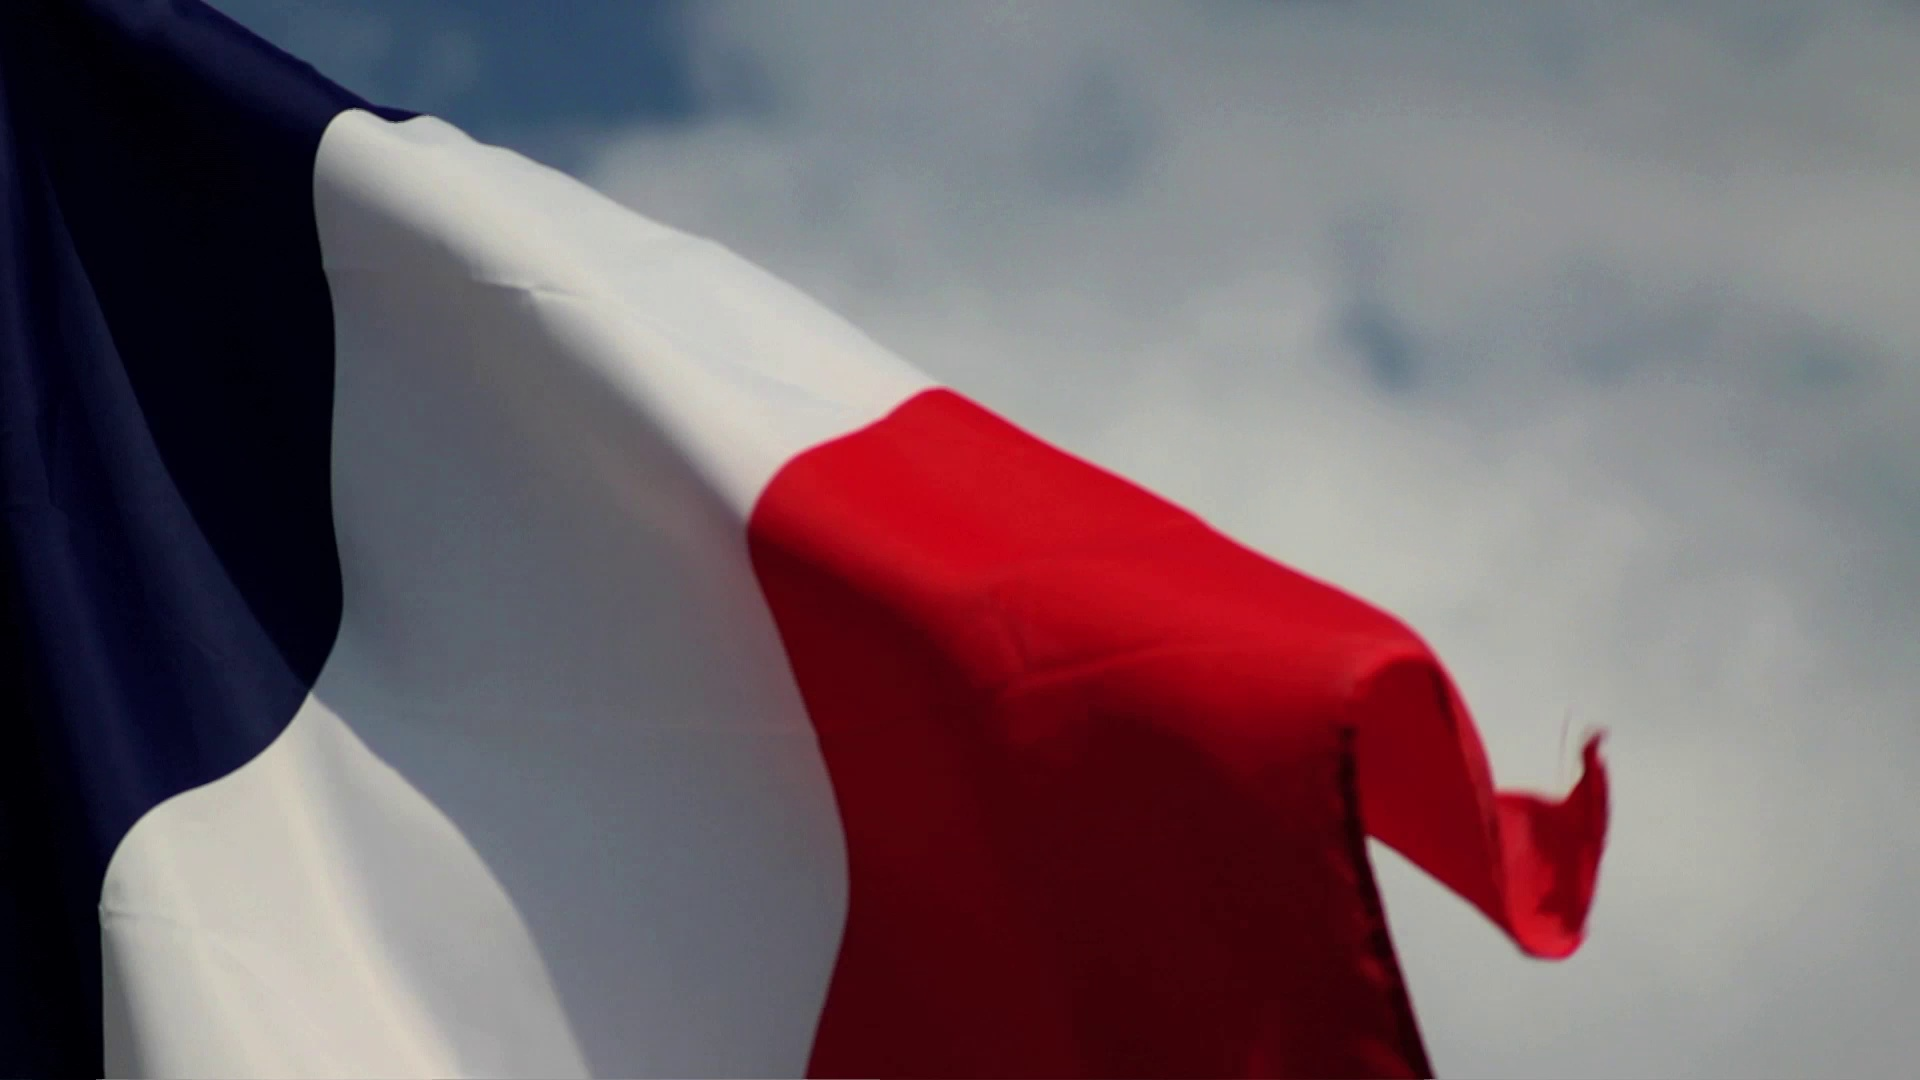French Flag: (1, 1, 1610, 1080)
